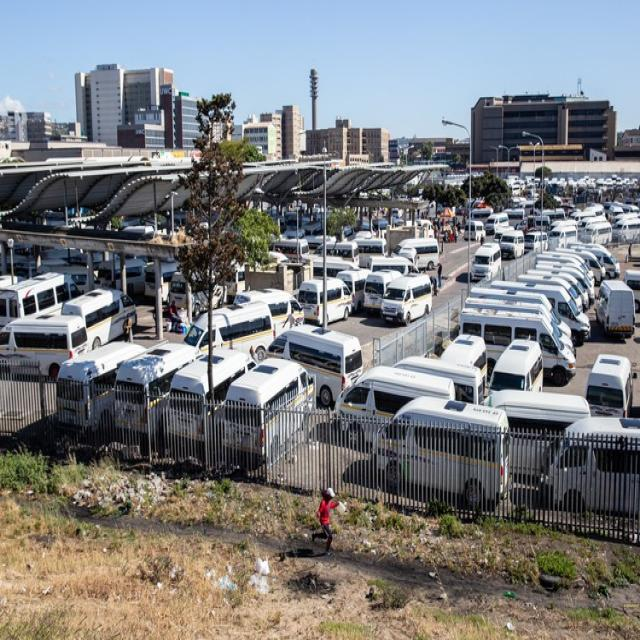MiniBus taxi: (381, 280, 407, 330), (470, 252, 493, 284)
